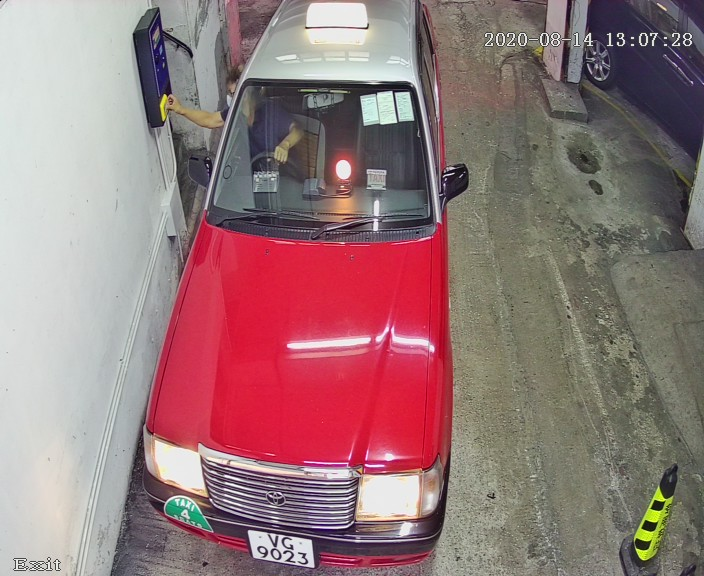taxi: (133, 2, 476, 576)
taxi_mark: (160, 489, 217, 537)
